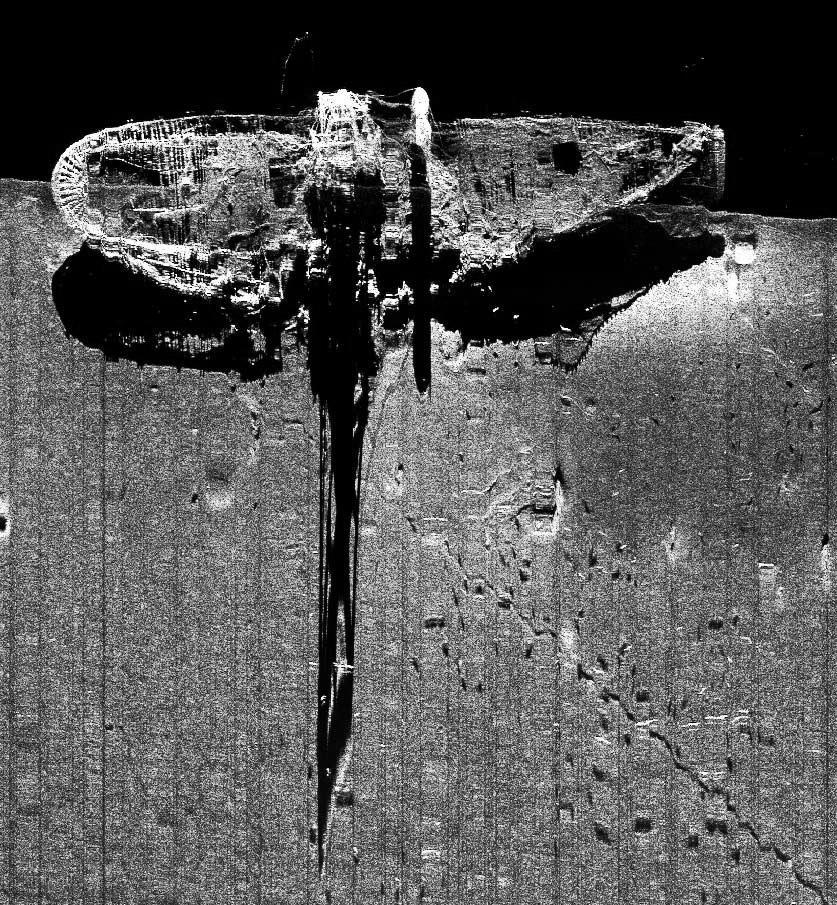ship: (49, 83, 727, 323)
